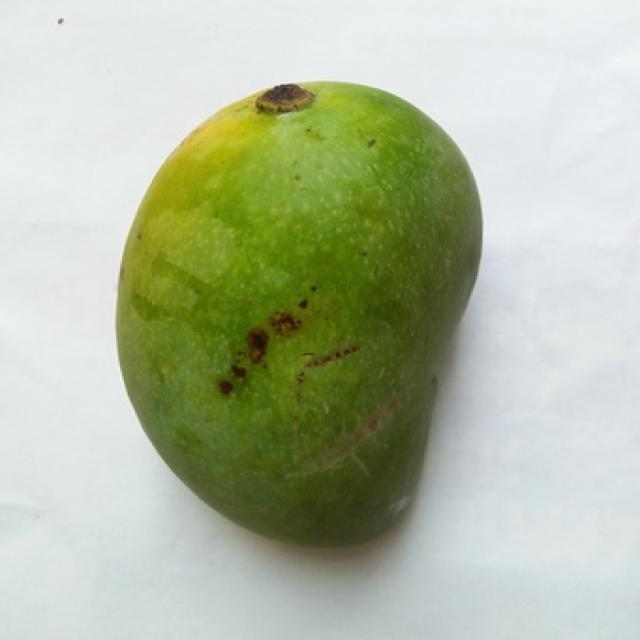Mango: (116, 83, 480, 544)
